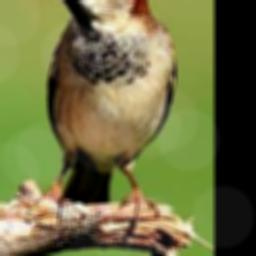Sparrow: (35, 0, 176, 227)
